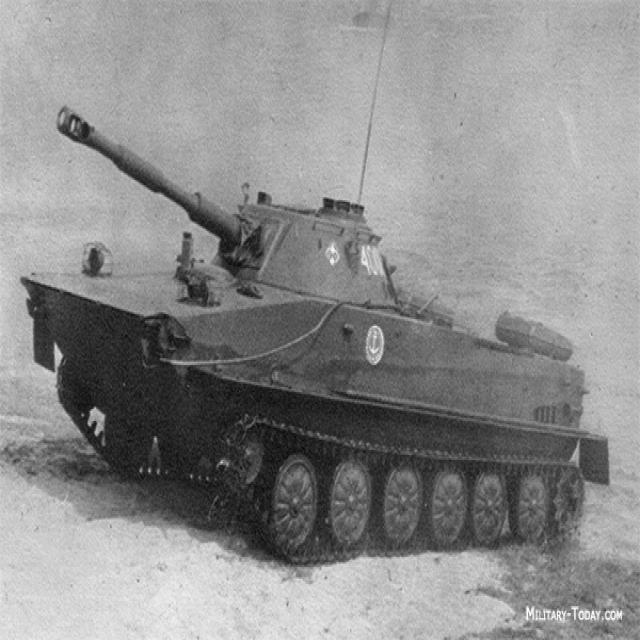Tank: (26, 82, 616, 573)
